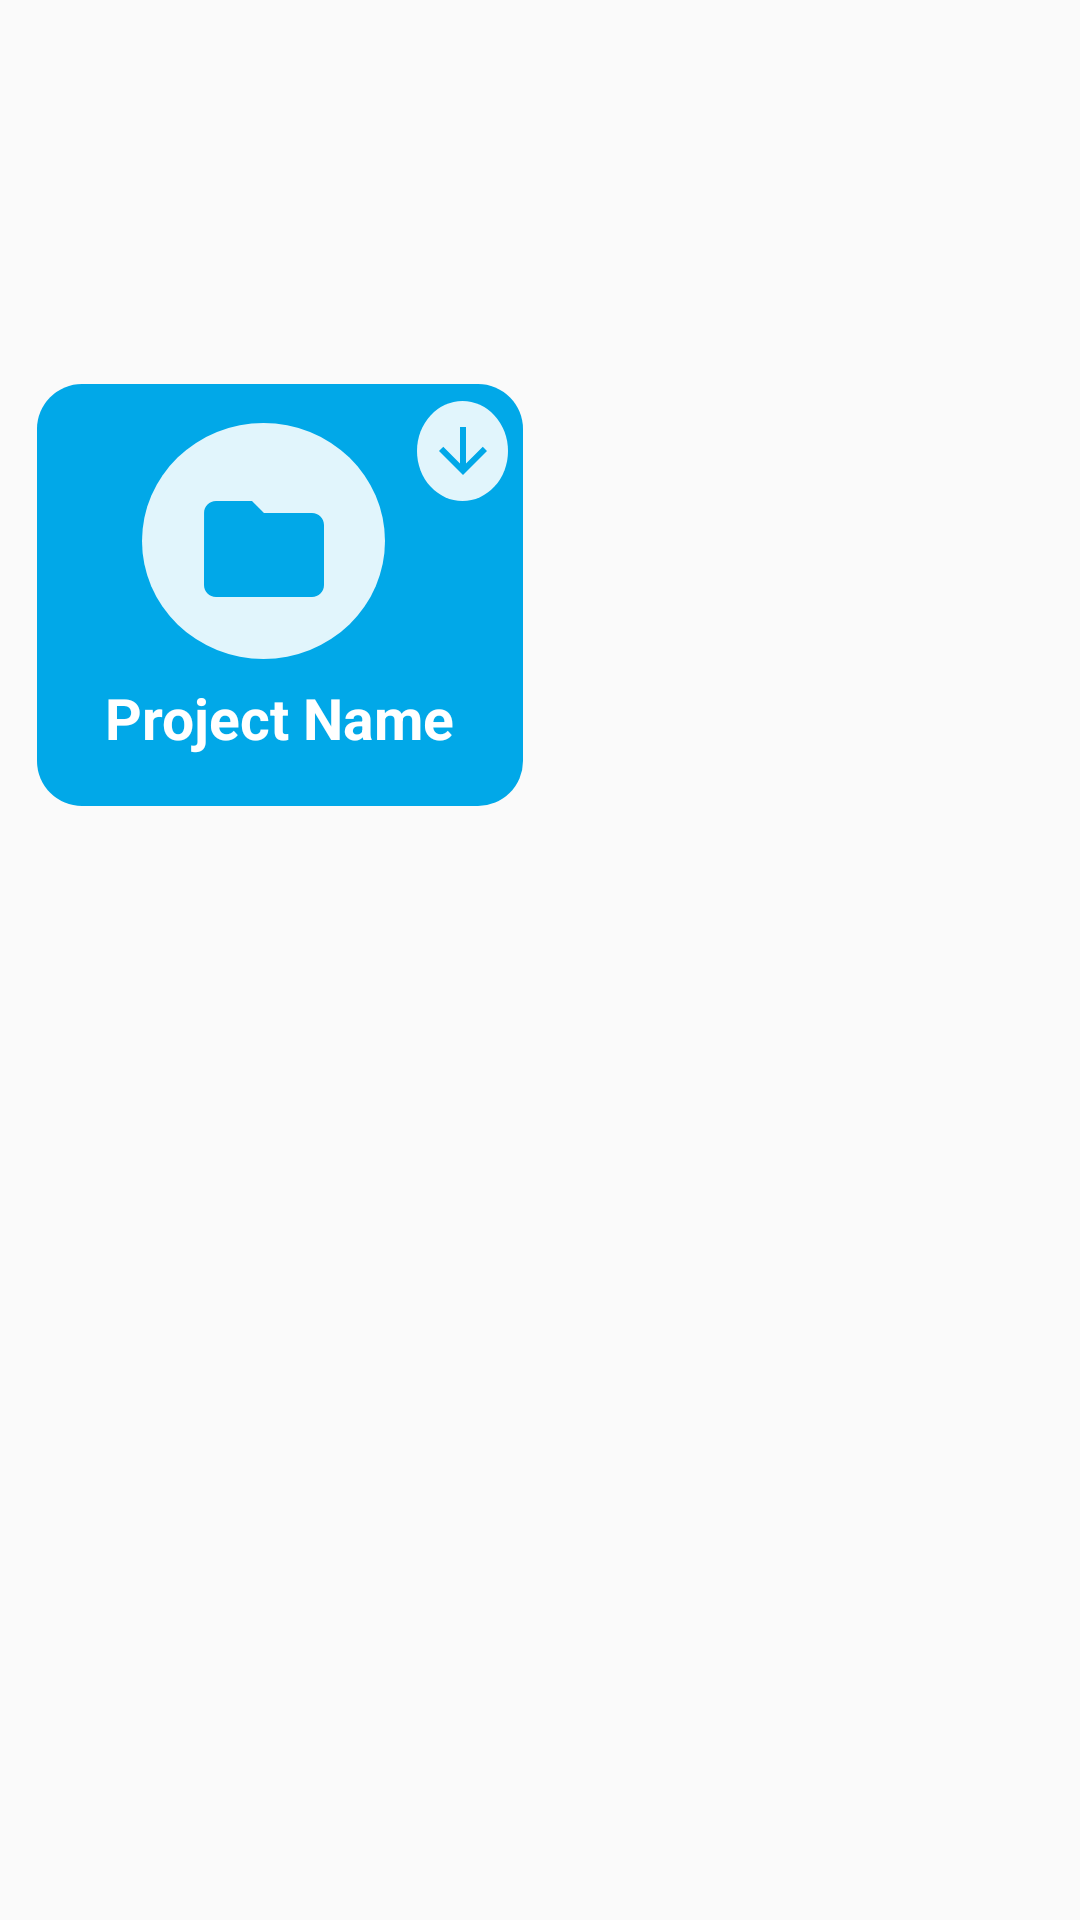

Point at icon controls on the screen. Image size 1080 x 1920, points as point (x, y).
downlode: point (462, 451)
folder: point (263, 548)
